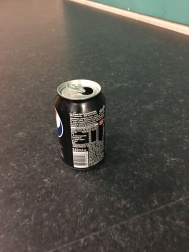can_black: (49, 75, 115, 177)
